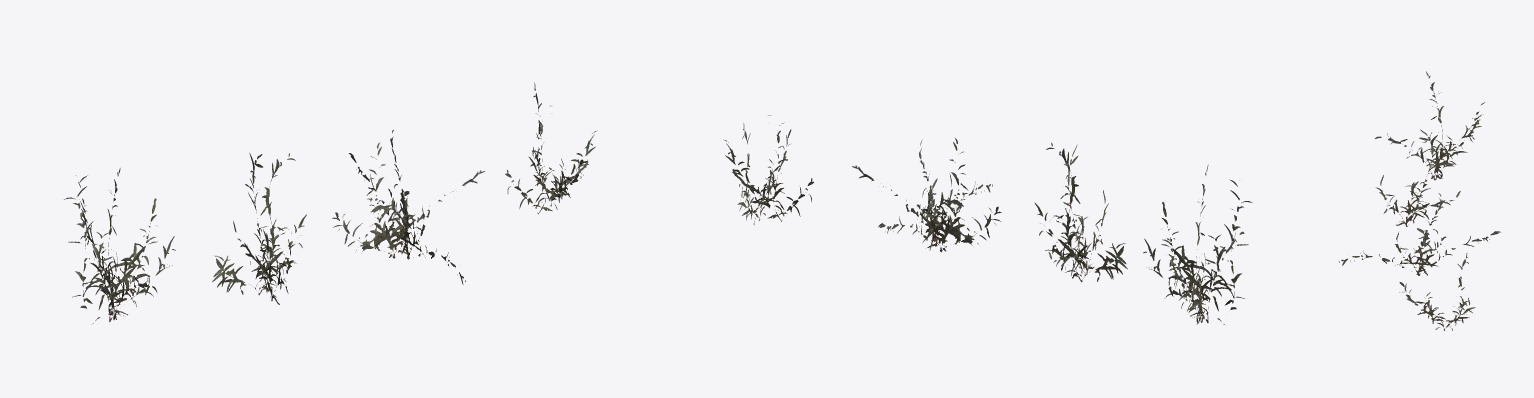
File: shrub_02_far.glb
3 renders of one model, left to right at view 1: azimuth 30°, elevation 25°; view 2: azimuth 150°, elevation 25°; view 3: azimuth 270°, elevation 25°, orthographic. The views are drawn at different scales.
Visible parts, largest first — view 1: shrub_02_a, shrub_02_c, shrub_02_b, shrub_02_d; view 2: shrub_02_a, shrub_02_c, shrub_02_b, shrub_02_d; view 3: shrub_02_a, shrub_02_c, shrub_02_b, shrub_02_d.
Boxes of the visible parts, <box> form: shrub_02_a: <box>64,168,175,324</box>; shrub_02_c: <box>332,130,484,284</box>; shrub_02_b: <box>212,153,306,304</box>; shrub_02_d: <box>505,82,597,214</box>; shrub_02_a: <box>1143,164,1252,324</box>; shrub_02_c: <box>852,138,1001,252</box>; shrub_02_b: <box>1034,142,1127,282</box>; shrub_02_d: <box>723,115,813,224</box>; shrub_02_a: <box>1375,71,1484,180</box>; shrub_02_c: <box>1338,193,1500,275</box>; shrub_02_b: <box>1375,129,1460,226</box>; shrub_02_d: <box>1399,253,1475,330</box>.
Size of the model in its own units: 7.08 by 2.64 by 2.64.
8 materials, 8 textured.
